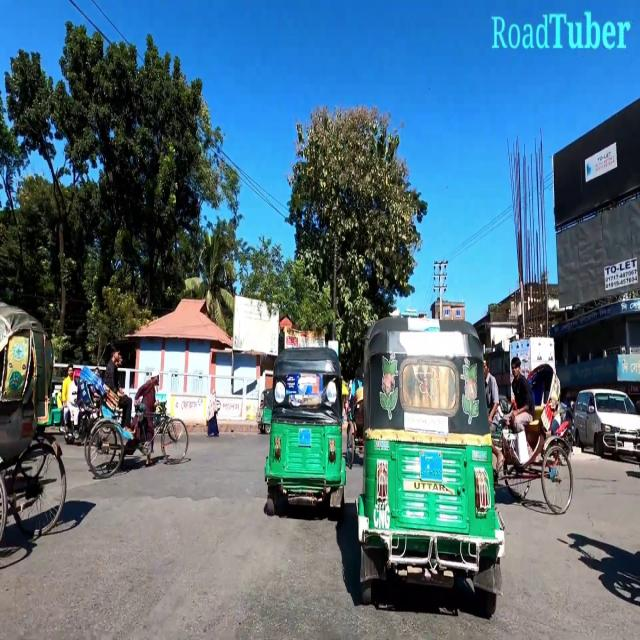white: (572, 384, 640, 460)
